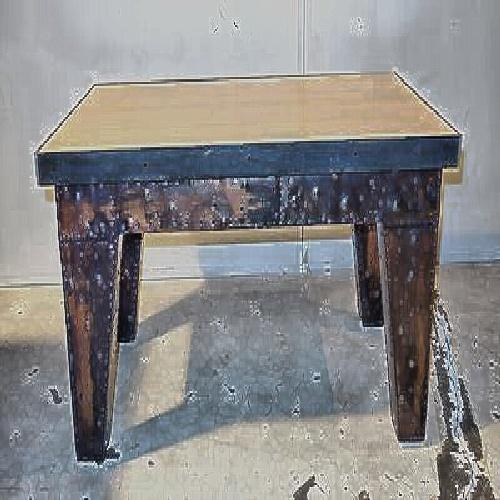table: (43, 73, 468, 470)
